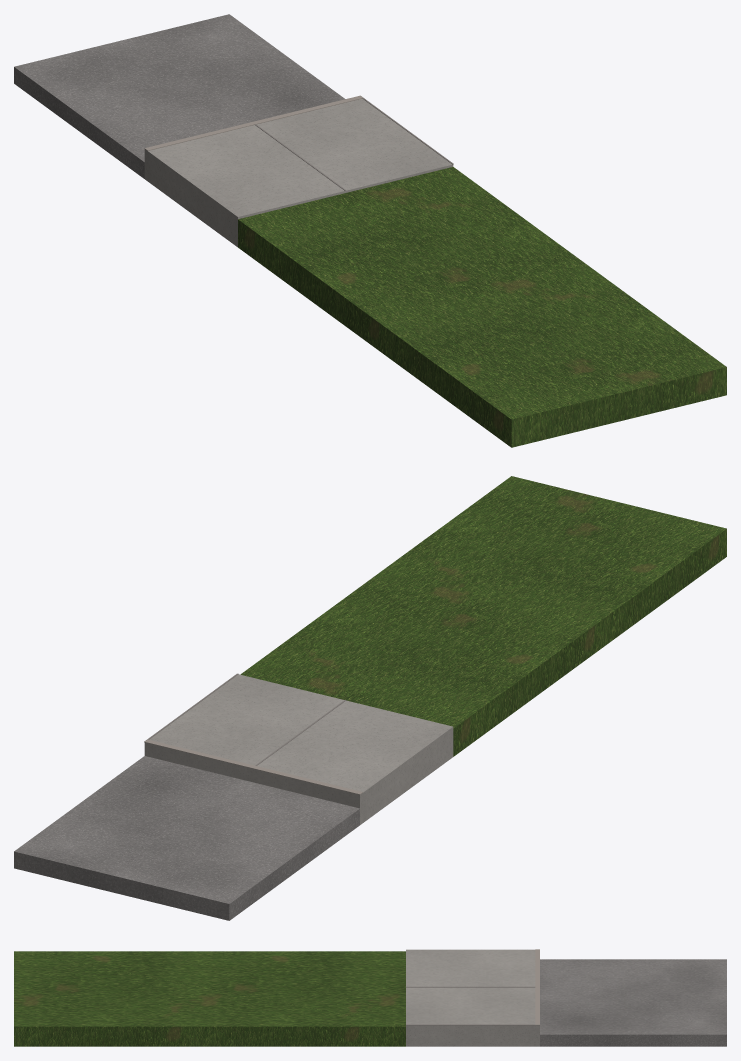
Rendered from street_tile.fbx.
3 views of the same model, one above another, from view 1: azimuth 30°, elevation 25°; view 2: azimuth 150°, elevation 25°; view 3: azimuth 270°, elevation 25° (orthographic). The views are drawn at different scales.
Visible parts, largest first — view 1: street_tile; view 2: street_tile; view 3: street_tile.
Boxes of the visible parts, <box> form: street_tile: <box>14,14,726,447</box>; street_tile: <box>14,476,726,920</box>; street_tile: <box>14,949,726,1046</box>.
Bounding box in the file's own units: 2.01 × 0.275 × 8.
